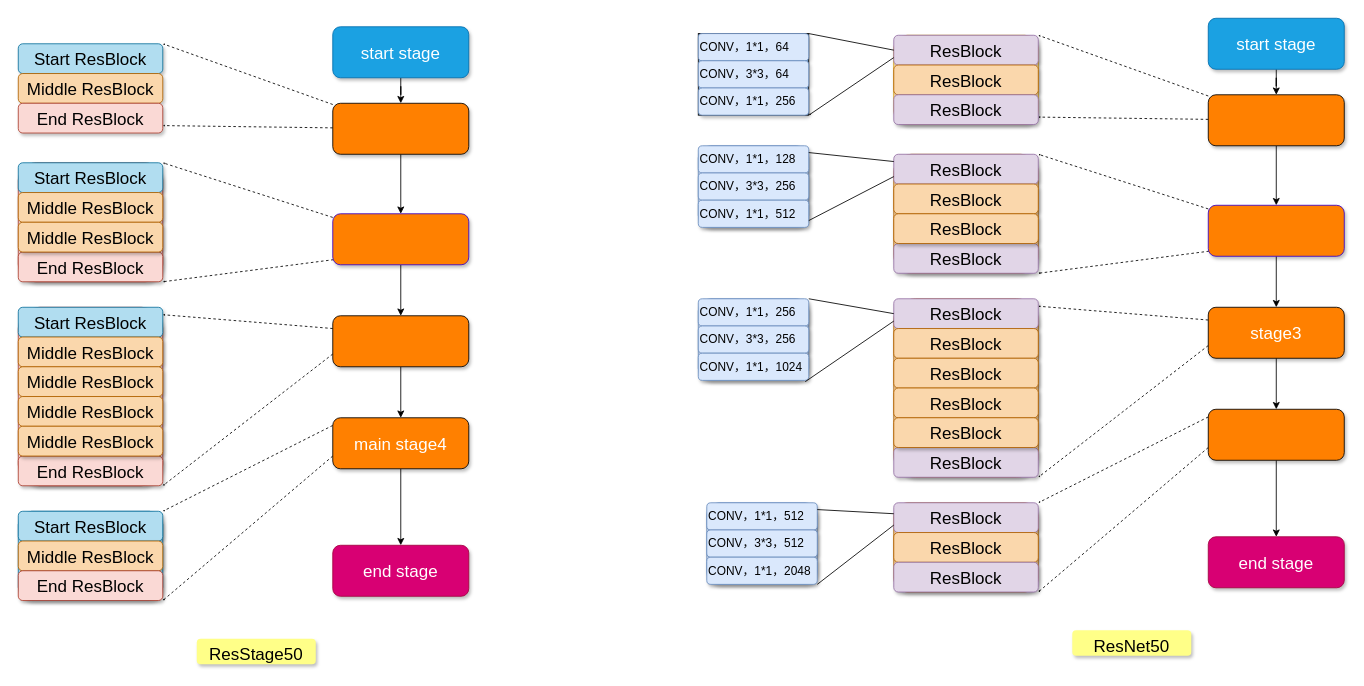
Some shapes in this 1364 by 686 pixel diagram are drawn without their labels. The centre of each missing label's shape, as x and y in pixels:
"main stage1" goes at point (401, 129).
"main stage2" goes at point (401, 240).
"main stage3" goes at point (401, 342).
"stage1" goes at point (1276, 121).
"stage2" goes at point (1276, 231).
"stage4" goes at point (1276, 435).
